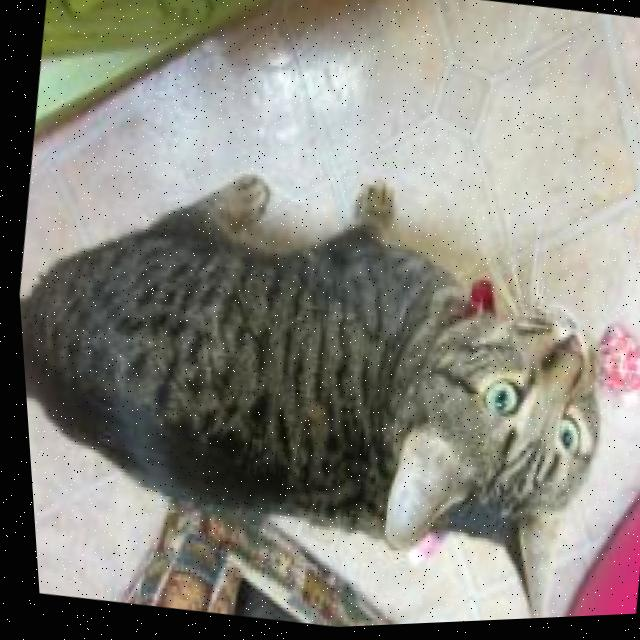American Bobtail: (7, 120, 640, 640)
